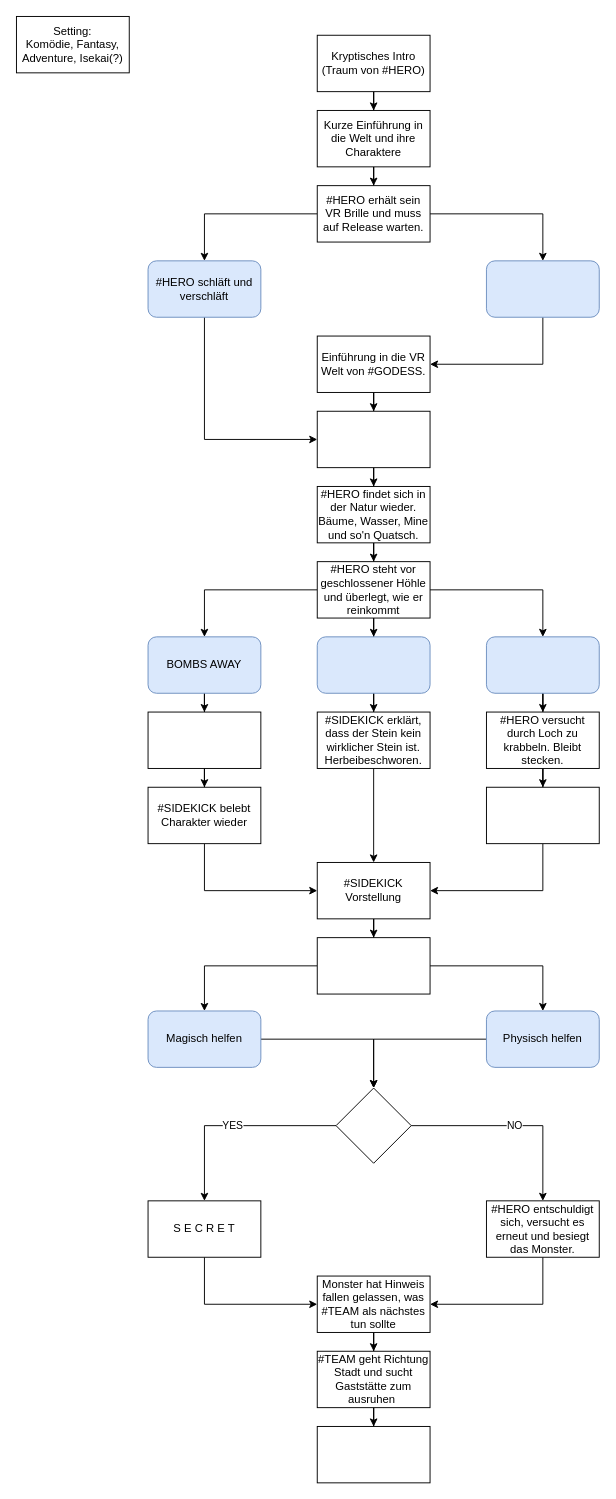
This 616x1499 diagram has some shape labels left out. The box of each missing label's shape, as (x1, y1, x2, y2) in pixels:
#HERO schiebt stein weg und denkt er ist super stark.: (316, 636, 430, 693)
#HERO verbringt Zeit mit Freunden: (486, 260, 599, 317)
#SECRET ROUTE?: (335, 1087, 411, 1163)
#SIDEKICK sieht aus Höhle aus #HERO und zieht: (486, 786, 599, 844)
Einzelnes Gespräch, durch das #HERO seine Kraft aussuchen kann: (316, 410, 430, 468)
Erkunden, ob es irgendwo noch einen Eingang gibt: (486, 636, 599, 693)
Monster schleicht sich in die Höhle und greift #SIDEKICK an: (316, 937, 430, 994)
OH NEIN! Wir wurden in der Nacht beklaut: (316, 1426, 430, 1483)
YOU DIED: (147, 711, 261, 768)
